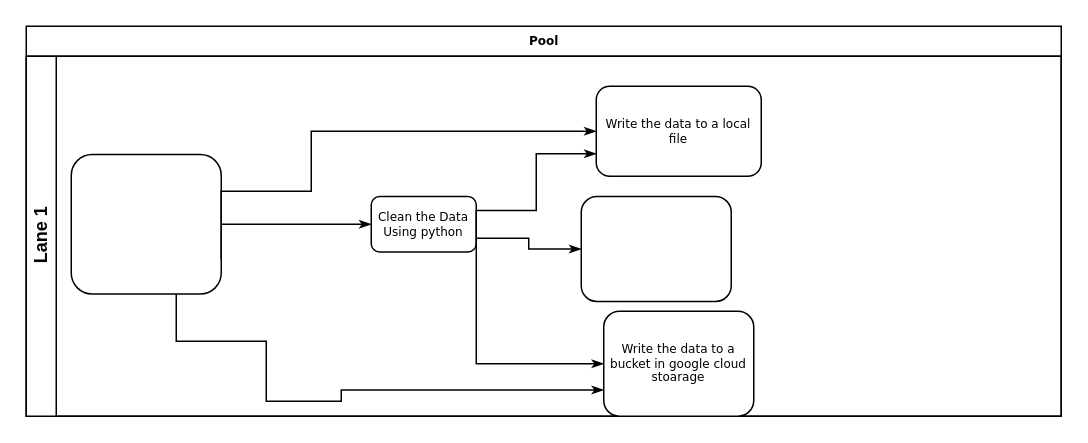
Image size: 1088x443. Some labels were removed from this diagram. The centre of each missing label's shape, as x and y in pixels:
"Scrape the three websites using selenium and BeautifulSoup" belongs at (145,223).
"Write the data to a postgres database stored in a docker image" belongs at (655,248).
